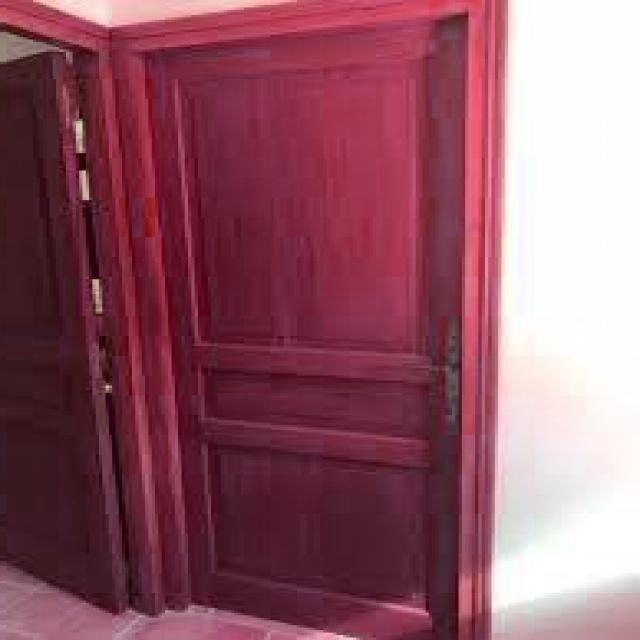door: (143, 9, 471, 637)
